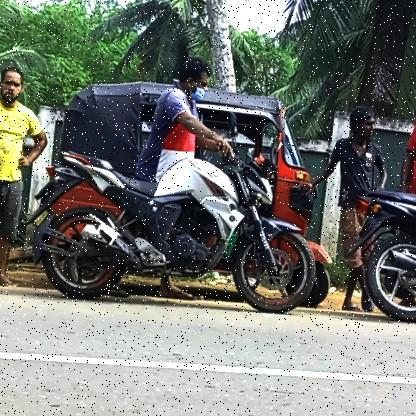motorcycle: (15, 106, 326, 326), (337, 129, 416, 348)
